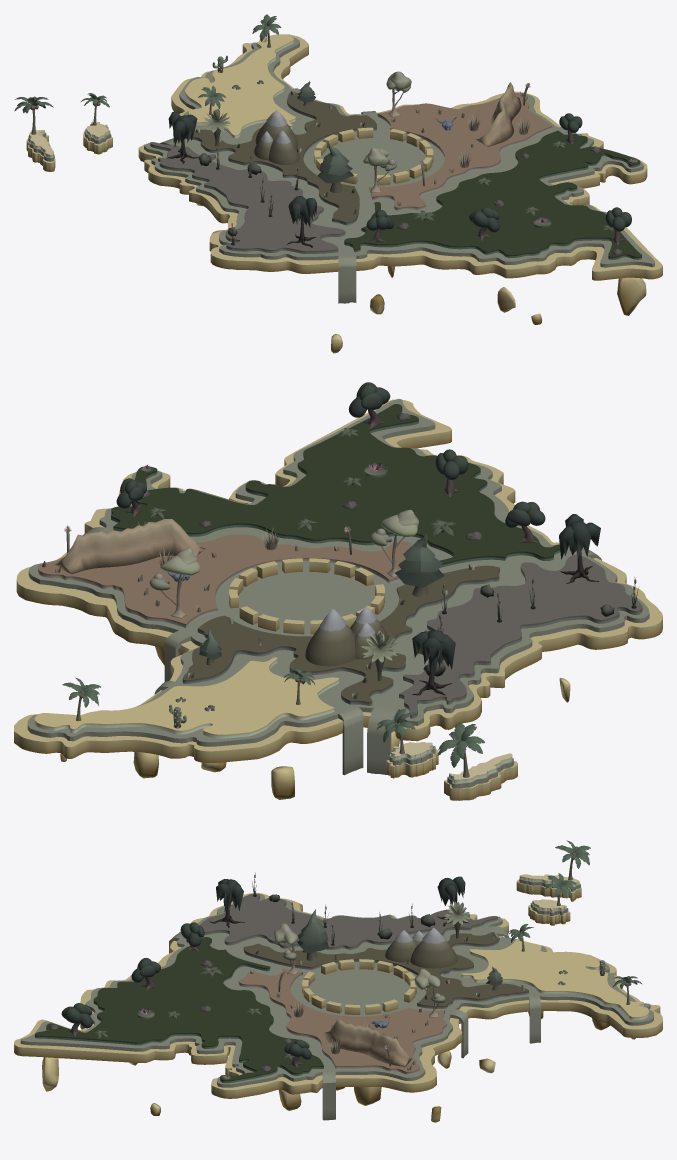
Rendered from Colombia Con Imagenes MALO.fbx.
3 views of the same model, one above another, from view 1: azimuth 30°, elevation 25°; view 2: azimuth 150°, elevation 25°; view 3: azimuth 270°, elevation 25° (orthographic). The views are drawn at different scales.
Parts seen in each view (by area): view 1: Malla agua 1, Malla Amazonas, Malla Piso Colombia, Malla Pacifico, Malla Orinoquia, Malla Atlantico, Malla Andina, Muro.009, Montañas orinoquia, Arbol andino.006, Arbol Pacifico, Roca flotante.004 (+8 smaller); view 2: Malla agua 1, Malla Amazonas, Malla Piso Colombia, Malla Pacifico, Malla Atlantico, Malla Orinoquia, Malla Andina, Montañas orinoquia, Muro.009, Montaña andina, Arbol andino.006, Arbol Pacifico.006 (+14 smaller); view 3: Malla agua 1, Malla Amazonas, Malla Piso Colombia, Malla Pacifico, Malla Orinoquia, Malla Atlantico, Malla Andina, Muro.009, Montañas orinoquia, Montaña andina, Arbol andino.006, Arbol Pacifico.006 (+13 smaller).
Boxes of the visible parts, left/top/right/bottom form: Malla agua 1: left=144, top=36, right=654, bottom=303; Malla Amazonas: left=344, top=130, right=641, bottom=259; Malla Piso Colombia: left=138, top=34, right=662, bottom=280; Malla Pacifico: left=150, top=142, right=345, bottom=253; Malla Orinoquia: left=369, top=93, right=552, bottom=210; Malla Atlantico: left=185, top=34, right=295, bottom=138; Malla Andina: left=186, top=91, right=376, bottom=225; Muro.009: left=314, top=127, right=433, bottom=185; Montañas orinoquia: left=476, top=82, right=521, bottom=146; Arbol andino.006: left=318, top=142, right=353, bottom=192; Arbol Pacifico: left=167, top=111, right=198, bottom=163; Roca flotante.004: left=617, top=277, right=646, bottom=315; Malla agua 1: left=27, top=399, right=649, bottom=775; Malla Amazonas: left=111, top=404, right=560, bottom=567; Malla Piso Colombia: left=14, top=399, right=662, bottom=762; Malla Pacifico: left=399, top=554, right=642, bottom=718; Malla Atlantico: left=34, top=657, right=339, bottom=738; Malla Orinoquia: left=38, top=532, right=412, bottom=628; Malla Andina: left=182, top=565, right=499, bottom=705; Montañas orinoquia: left=53, top=519, right=205, bottom=574; Muro.009: left=229, top=558, right=384, bottom=634; Montaña andina: left=305, top=608, right=355, bottom=666; Arbol andino.006: left=395, top=534, right=444, bottom=597; Arbol Pacifico.006: left=559, top=514, right=600, bottom=583; Malla agua 1: left=20, top=893, right=653, bottom=1120; Malla Amazonas: left=35, top=937, right=323, bottom=1083; Malla Piso Colombia: left=14, top=893, right=662, bottom=1098; Malla Pacifico: left=199, top=893, right=497, bottom=949; Malla Orinoquia: left=238, top=968, right=446, bottom=1074; Malla Atlantico: left=461, top=940, right=648, bottom=1019; Malla Andina: left=243, top=932, right=528, bottom=1008; Muro.009: left=302, top=959, right=416, bottom=1014; Montañas orinoquia: left=324, top=1018, right=411, bottom=1067; Montaña andina: left=410, top=927, right=457, bottom=968; Arbol andino.006: left=297, top=909, right=328, bottom=961; Arbol Pacifico.006: left=209, top=879, right=244, bottom=928.
Size of the model in its own units: 2919 by 1058 by 3771.
20 materials, 18 textured.
